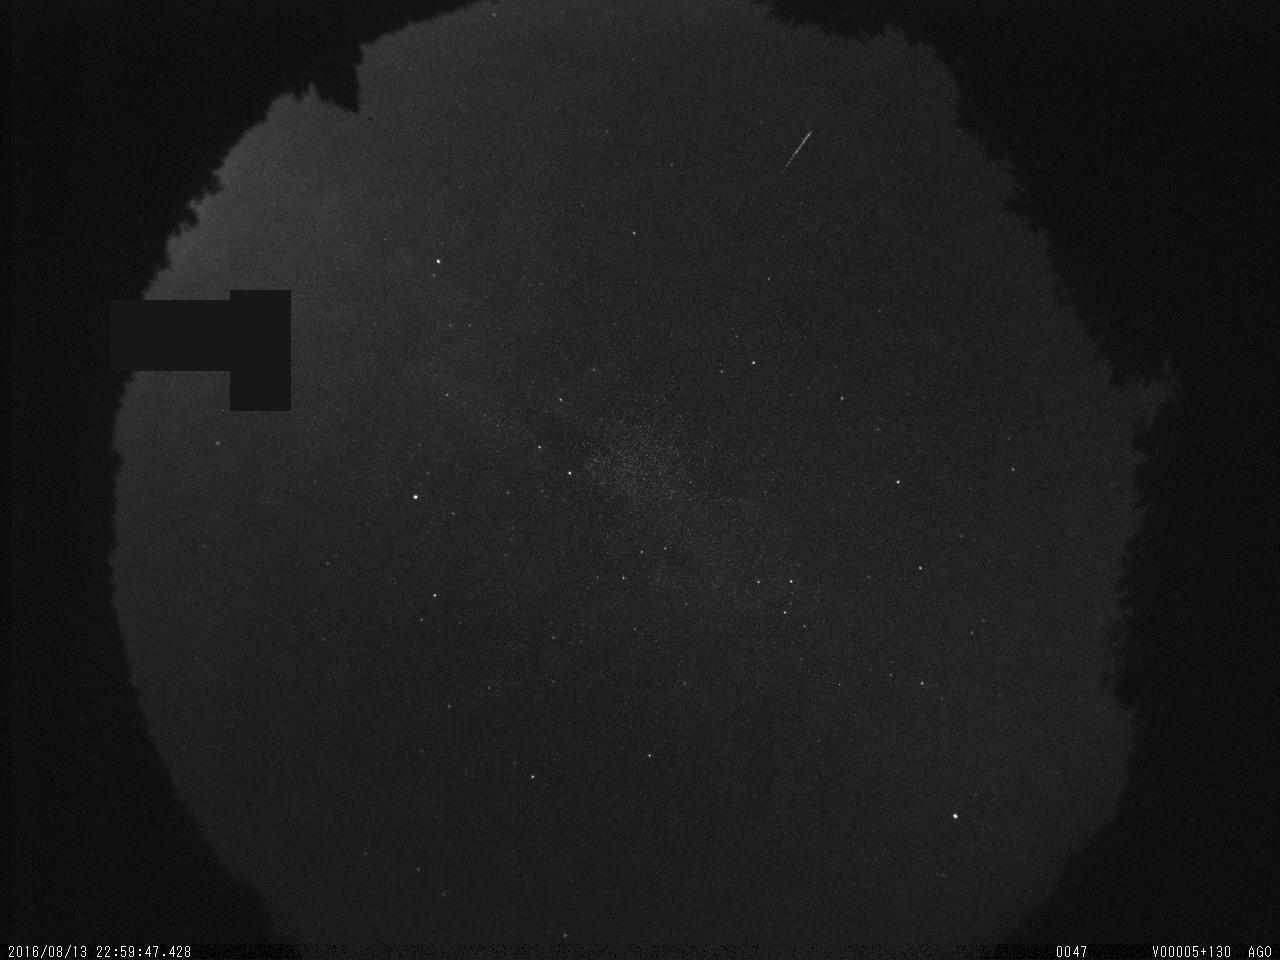meteor: (776, 122, 836, 178)
